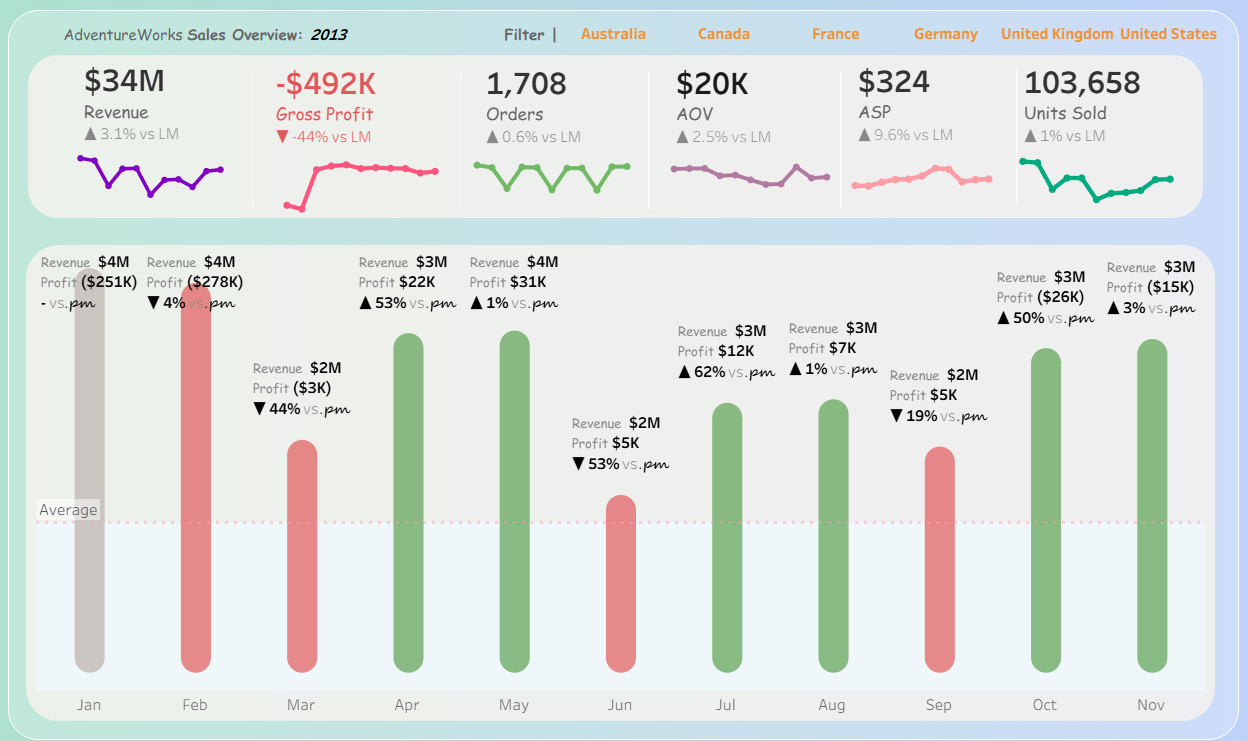

What the dashboard file says about the page in this screenshot:
{"tool":"powerbi","page":{"name":"Executive Overview","canvas":[1280,720],"ordinal":1},"visuals":[{"type":"cardVisual","fields":{"Data":["_Measures.Total Revenue"]},"box":[295.6,65.1,223.2,88.1],"z":0},{"type":"textbox","box":[298,60.3,105,45.8],"z":1000},{"type":"cardVisual","fields":{"Data":["_Measures.Gross Profit"]},"box":[556.2,72.4,211.1,71.2],"z":2000},{"type":"textbox","box":[295.6,146,119.4,35],"z":3000},{"type":"textbox","box":[1021.9,60.3,232.8,45.8],"z":4000},{"type":"textbox","box":[780.6,59.1,154.4,45.8],"z":5000},{"type":"textbox","box":[541.7,59.1,105,45.8],"z":6000},{"type":"shape","box":[298,129.3,234,16.9],"z":7000},{"type":"shape","box":[541.7,129.3,234,16.9],"z":8000},{"type":"shape","box":[784.2,129.3,234,16.9],"z":9000},{"type":"shape","box":[1027.9,129.3,234,16.9],"z":10000},{"type":"textbox","box":[544.1,138.7,119.4,45.8],"z":11000},{"type":"textbox","box":[1025.5,141.2,119.4,45.8],"z":12000},{"type":"textbox","box":[785.4,138.7,119.4,45.8],"z":13000},{"type":"image","box":[476.5,60.3,66.4,45.8],"z":14000},{"type":"image","box":[719,65.1,72.4,41],"z":15000},{"type":"cardVisual","fields":{"Data":["_Measures.Gross Margin %"]},"box":[818,72.4,177.3,71.2],"z":16000},{"type":"image","box":[963.9,65.1,61.5,45.8],"z":17000},{"type":"cardVisual","fields":{"Data":["_Measures.Total Orders"]},"box":[1065.3,73.6,166.5,71.2],"z":18000},{"type":"image","box":[1208.9,60.3,45.8,59.1],"z":19000},{"type":"cardVisual","fields":{"Data":["_Measures.Revenue cf"]},"box":[366.8,129.1,165.3,63.9],"z":20000},{"type":"slicer","fields":{"Values":["DimDate.CalendarYear"]},"box":[998.8,501.2,150,168.6],"z":21000},{"type":"cardVisual","fields":{"Data":["_Measures.Profit cf"]},"box":[616.5,132.7,174.9,57.9],"z":22000},{"type":"cardVisual","fields":{"Data":["_Measures.Orders cf"]},"box":[1098.8,132.6,174.4,58.1],"z":23000},{"type":"cardVisual","fields":{"Data":["_Measures.Total Cost"]},"box":[424.7,258.2,388.5,149.6],"z":24000}]}

Visuals, with their boxes on the page's 1280x720 design canvas (x1, y1, x2, y2). These are canvas units, not pixel positions in the 1248x741 screenshot, which may show the page scaled, cropped or inside an application window:
cardVisual - _Measures.Total Revenue: [left=296, top=65, right=519, bottom=153]
textbox: [left=298, top=60, right=403, bottom=106]
cardVisual - _Measures.Gross Profit: [left=556, top=72, right=767, bottom=144]
textbox: [left=296, top=146, right=415, bottom=181]
textbox: [left=1022, top=60, right=1255, bottom=106]
textbox: [left=781, top=59, right=935, bottom=105]
textbox: [left=542, top=59, right=647, bottom=105]
shape: [left=298, top=129, right=532, bottom=146]
shape: [left=542, top=129, right=776, bottom=146]
shape: [left=784, top=129, right=1018, bottom=146]
shape: [left=1028, top=129, right=1262, bottom=146]
textbox: [left=544, top=139, right=664, bottom=184]
textbox: [left=1026, top=141, right=1145, bottom=187]
textbox: [left=785, top=139, right=905, bottom=184]
image: [left=476, top=60, right=543, bottom=106]
image: [left=719, top=65, right=791, bottom=106]
cardVisual - _Measures.Gross Margin %: [left=818, top=72, right=995, bottom=144]
image: [left=964, top=65, right=1025, bottom=111]
cardVisual - _Measures.Total Orders: [left=1065, top=74, right=1232, bottom=145]
image: [left=1209, top=60, right=1255, bottom=119]
cardVisual - _Measures.Revenue cf: [left=367, top=129, right=532, bottom=193]
slicer - DimDate.CalendarYear: [left=999, top=501, right=1149, bottom=670]
cardVisual - _Measures.Profit cf: [left=616, top=133, right=791, bottom=191]
cardVisual - _Measures.Orders cf: [left=1099, top=133, right=1273, bottom=191]
cardVisual - _Measures.Total Cost: [left=425, top=258, right=813, bottom=408]
